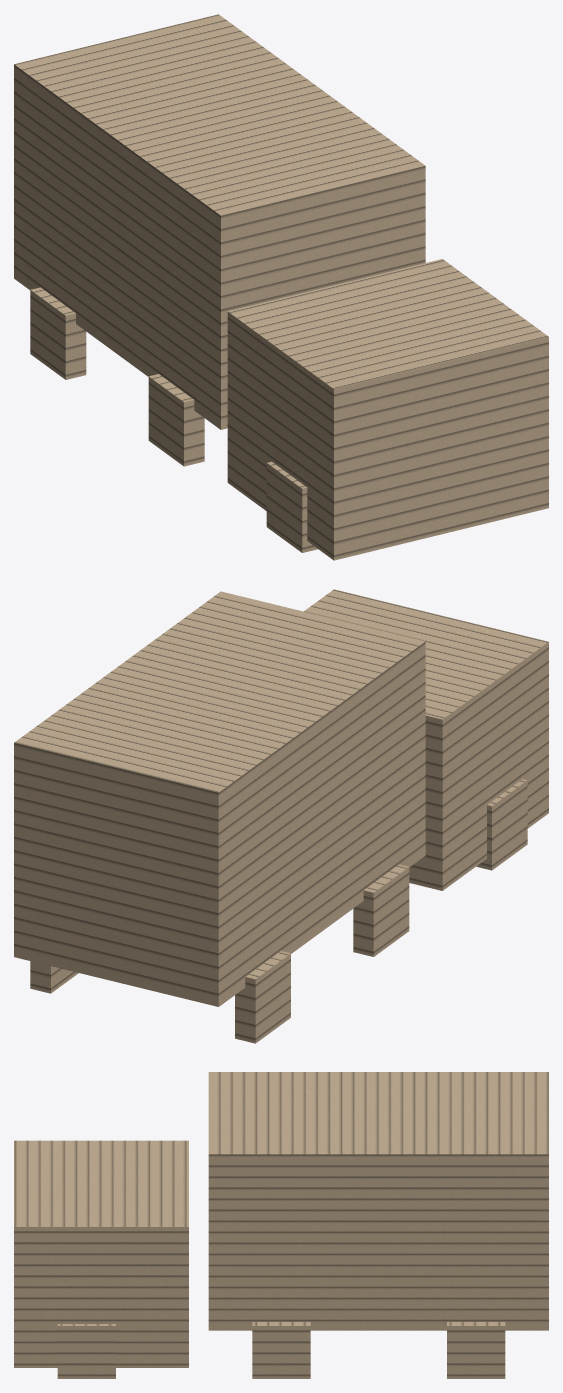
Rendered from vehicle_delivery_van_box_truck.glb.
The picture shows the model from 3 angles, top to bottom: view 1: azimuth 30°, elevation 25°; view 2: azimuth 150°, elevation 25°; view 3: azimuth 270°, elevation 25°; orthographic projection. The views are drawn at different scales.
Visible parts, largest first — view 1: vehicle_delivery_van_box_truck-col; view 2: vehicle_delivery_van_box_truck-col; view 3: vehicle_delivery_van_box_truck-col.
Part boxes in pixels (bbox=[...]): vehicle_delivery_van_box_truck-col: bbox=[14, 14, 548, 560]; vehicle_delivery_van_box_truck-col: bbox=[14, 589, 548, 1043]; vehicle_delivery_van_box_truck-col: bbox=[14, 1072, 548, 1378].
Size of the model in its own units: 2.2 by 2.5 by 5.5.
Materials: 1 (1 with a texture image).
